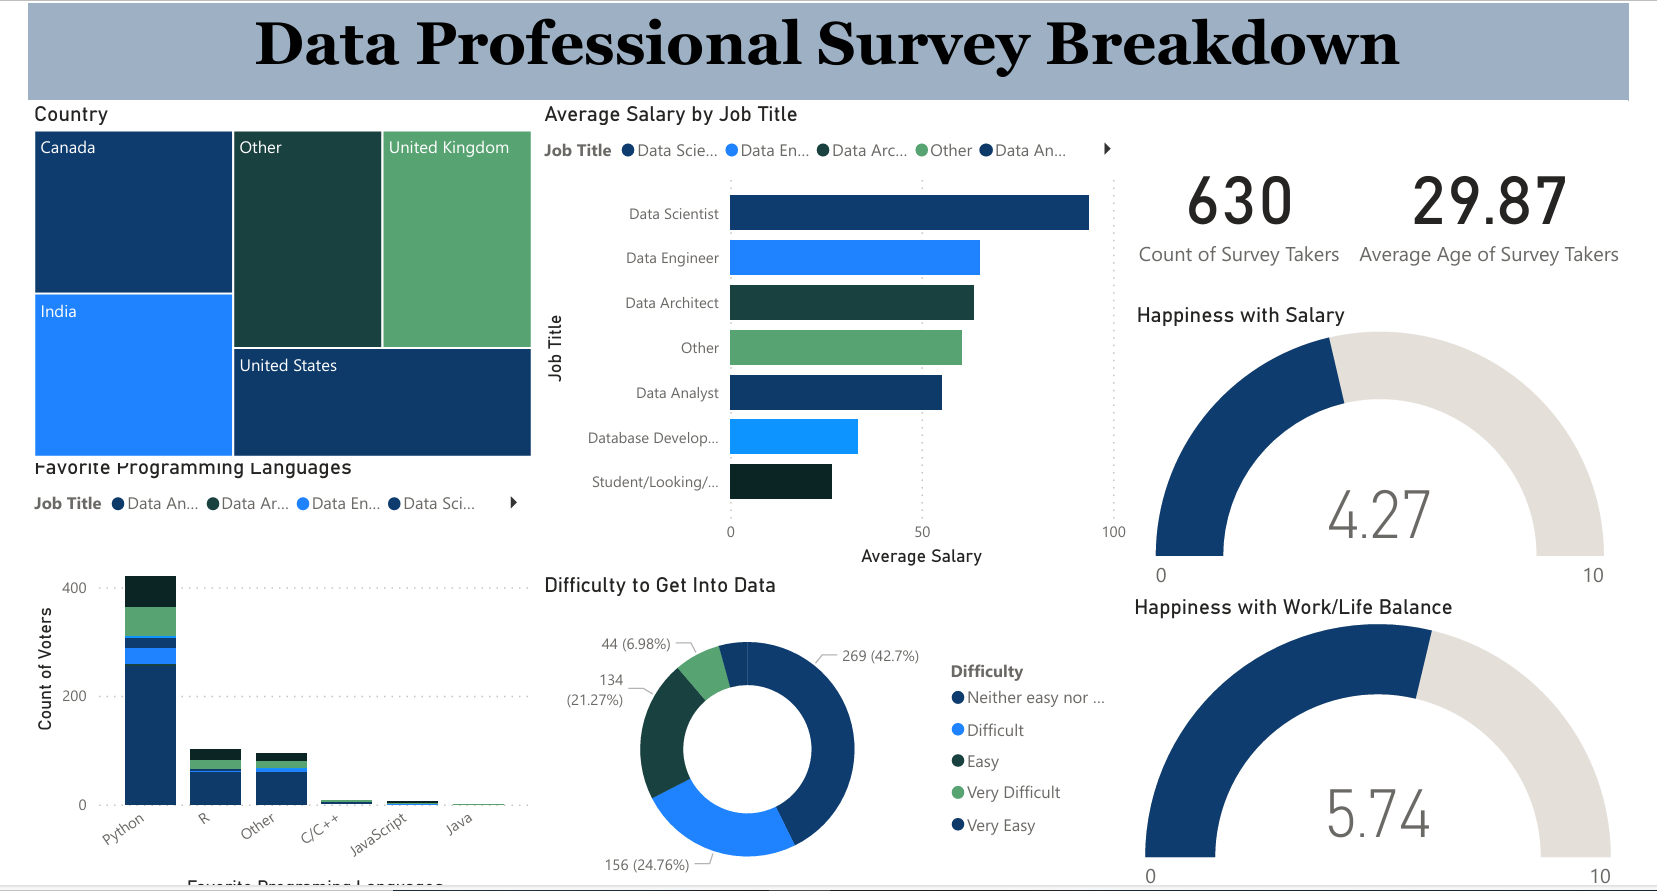

What the dashboard file says about the page in this screenshot:
{"tool":"powerbi","page":{"name":"Page 1","canvas":[1280,720],"ordinal":0},"visuals":[{"type":"textbox","box":[0,0,1280,78.3],"z":0},{"type":"card","fields":{"Values":["CountNonNull(Data Professional Survey.Unique ID)"]},"box":[880,78.3,178.3,166.7],"z":1000},{"type":"card","fields":{"Values":["Avg(Data Professional Survey.Q10 - Current Age)"]},"box":[1058.3,78.3,221.7,166.7],"z":2000},{"type":"barChart","title":"Average Salary by Job Title","fields":{"Category":["Data Professional Survey.Q1 - Which Title Best Fits your Current Role?.1"],"Y":["Avg(Data Professional Survey.Q3 - Current Yearly Avg Salary)"],"Series":["Data Professional Survey.Q1 - Which Title Best Fits your Current Role?.1"]},"box":[408.3,78.3,475,376.7],"z":3000},{"type":"columnChart","title":"Favorite Programming Languages","fields":{"Category":["Data Professional Survey.Q5 - Favorite Programming Language.1"],"Y":["CountNonNull(Data Professional Survey.Unique ID)"],"Series":["Data Professional Survey.Q1 - Which Title Best Fits your Current Role?.1"]},"box":[0,360.8,407.6,359.2],"z":4000},{"type":"treemap","title":"Country","fields":{"Group":["Data Professional Survey.Q11 - Which Country do you live in?.1"],"Values":["Count(Data Professional Survey.Q11 - Which Country do you live in?.1)"]},"box":[0,78.3,408.3,290],"z":5000},{"type":"gauge","title":"Happiness with Salary","fields":{"Y":["Avg(Data Professional Survey.Q6 - How Happy are you in your Current Position with the following? (Salary))"],"MinValue":["Min(Data Professional Survey.Q6 - How Happy are you in your Current Position with the following? (Salary))1"],"MaxValue":["Max(Data Professional Survey.Q6 - How Happy are you in your Current Position with the following? (Salary))2"]},"box":[882.4,238.9,398.2,240.5],"z":6000},{"type":"gauge","title":"Happiness with Work/Life Balance","fields":{"Y":["Avg(Data Professional Survey.Q6 - How Happy are you in your Current Position with the following? (Work/Life Balance))"],"MinValue":["Min(Data Professional Survey.Q6 - How Happy are you in your Current Position with the following? (Work/Life Balance))1"],"MaxValue":["Max(Data Professional Survey.Q6 - How Happy are you in your Current Position with the following? (Work/Life Balance))2"]},"box":[880,473.3,400,246.7],"z":7000},{"type":"donutChart","title":"Difficulty to Get Into Data","fields":{"Category":["Data Professional Survey.Q7 - How difficult was it for you to break into Data?"],"Y":["CountNonNull(Data Professional Survey.Q7 - How difficult was it for you to break into Data?)"]},"box":[408.3,455,475,265],"z":8000}]}

Visuals, with their boxes on the page's 1280x720 design canvas (x1, y1, x2, y2). These are canvas units, not pixel positions in the 1657x891 screenshot, which may show the page scaled, cropped or inside an application window:
textbox: <bbox>0, 0, 1280, 78</bbox>
card - CountNonNull(Data Professional Survey.Unique ID): <bbox>880, 78, 1058, 245</bbox>
card - Avg(Data Professional Survey.Q10 - Current Age): <bbox>1058, 78, 1280, 245</bbox>
"Average Salary by Job Title" barChart: <bbox>408, 78, 883, 455</bbox>
"Favorite Programming Languages" columnChart: <bbox>0, 361, 408, 720</bbox>
"Country" treemap: <bbox>0, 78, 408, 368</bbox>
"Happiness with Salary" gauge: <bbox>882, 239, 1281, 479</bbox>
"Happiness with Work/Life Balance" gauge: <bbox>880, 473, 1280, 720</bbox>
"Difficulty to Get Into Data" donutChart: <bbox>408, 455, 883, 720</bbox>
